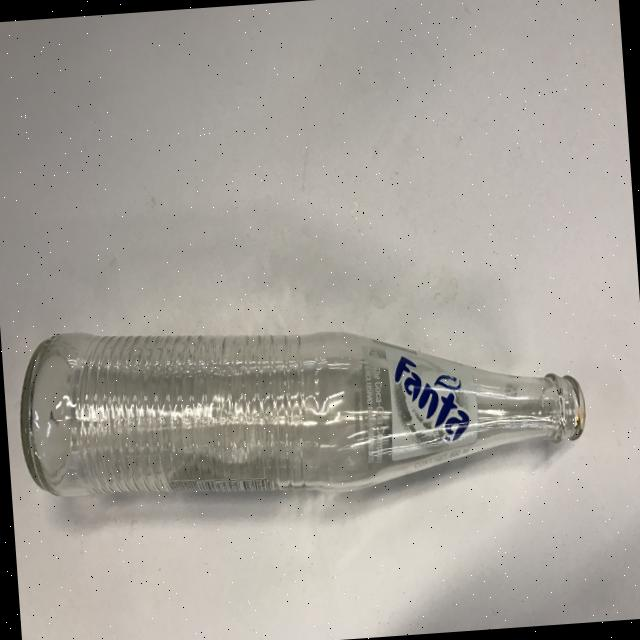glass: (13, 294, 590, 514)
